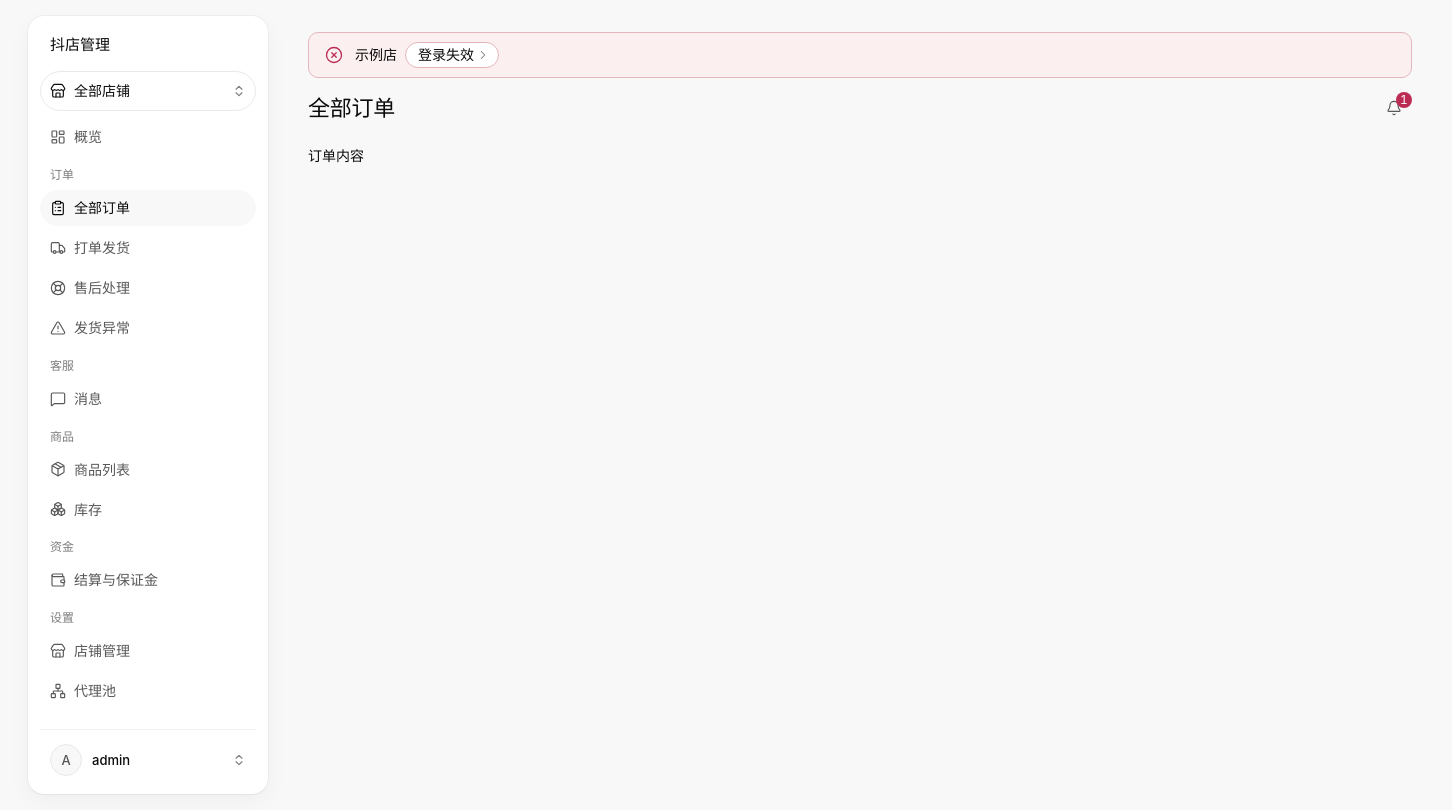
Test case: App Shell › 有未解决的强提醒时内容区最上方显示横条
This screenshot has width=1452, height=810.
What coordinates should you click on to do the following:
click the button "登录失效"
I would click on:
 (452, 55)
Its box is left=405, top=42, right=499, bottom=68.
(page scrolled)
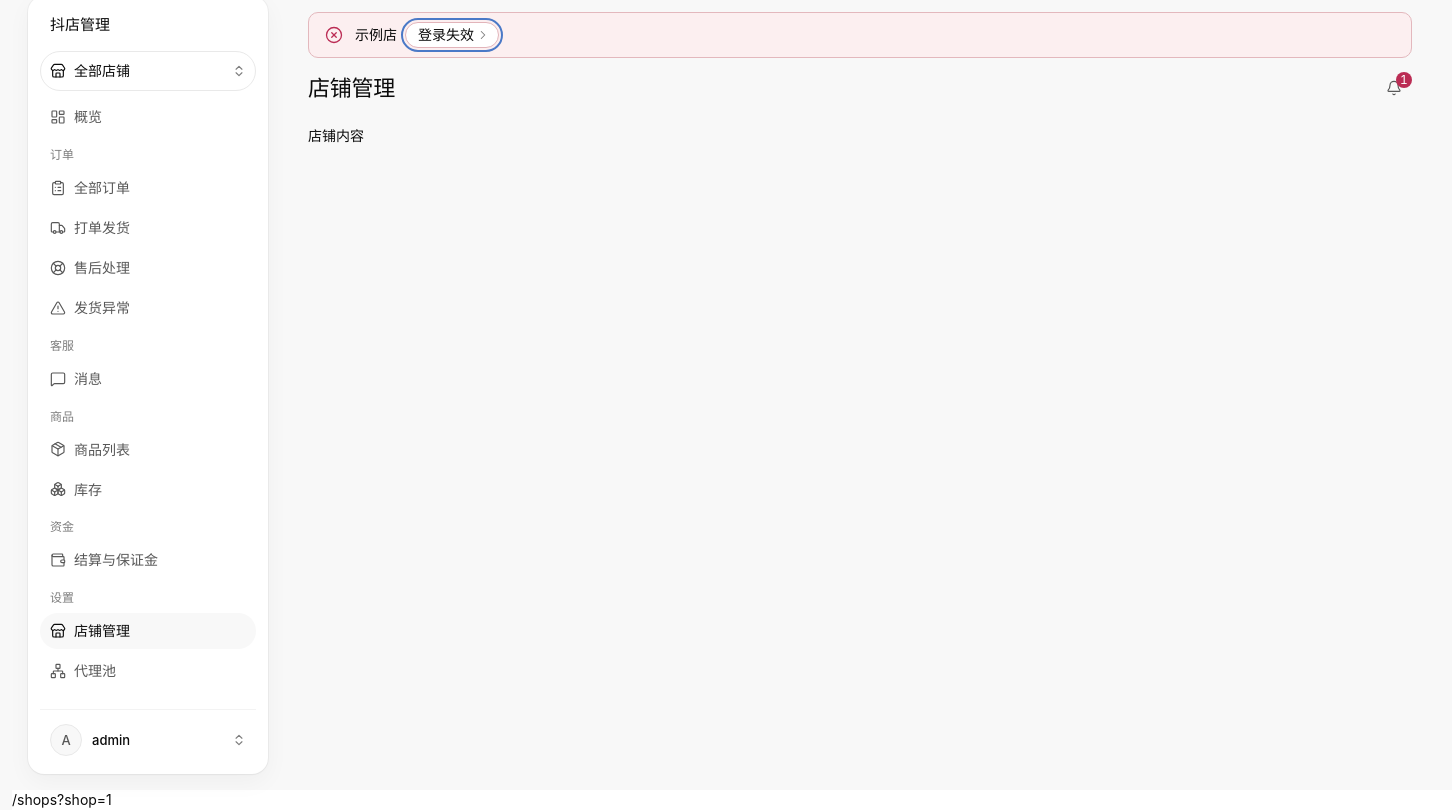
Now the text with test id "where" reads "/shops?shop=1", box left=12, top=791, right=112, bottom=808
